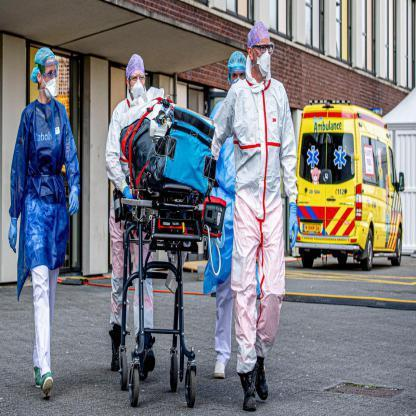Ambulance - v1 Ambulance last generate: (294, 98, 408, 269)
